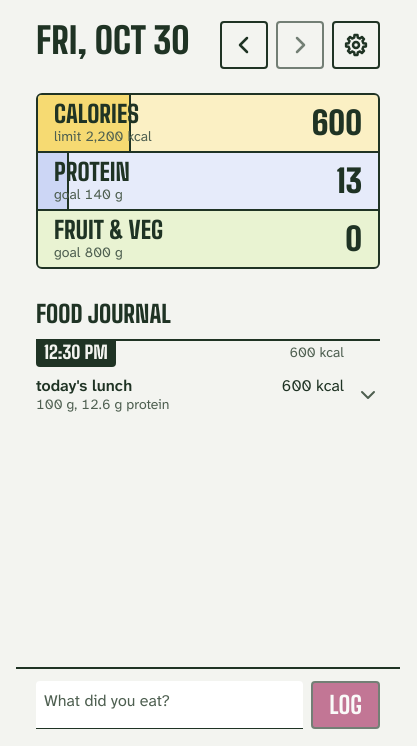
Scenario: a past day under the midnight and resume rules › keeps the day when the app returns after less than 5 minutes away
Click the button named "Previous day": x=244, y=45 220,21 -> 268,69
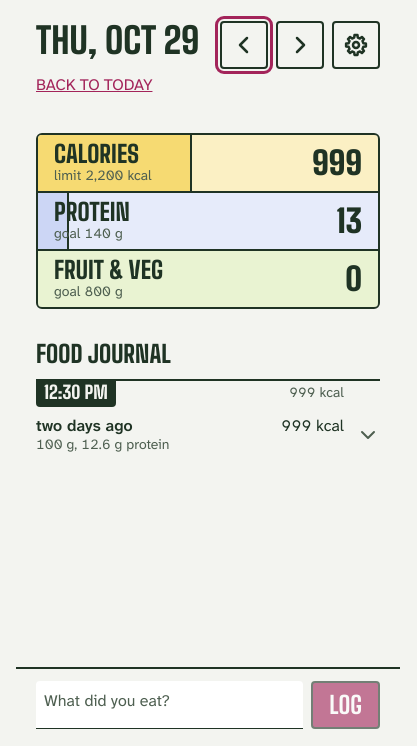
Now the text "Thu, Oct 29" is shown, box 36,19 -> 199,62
